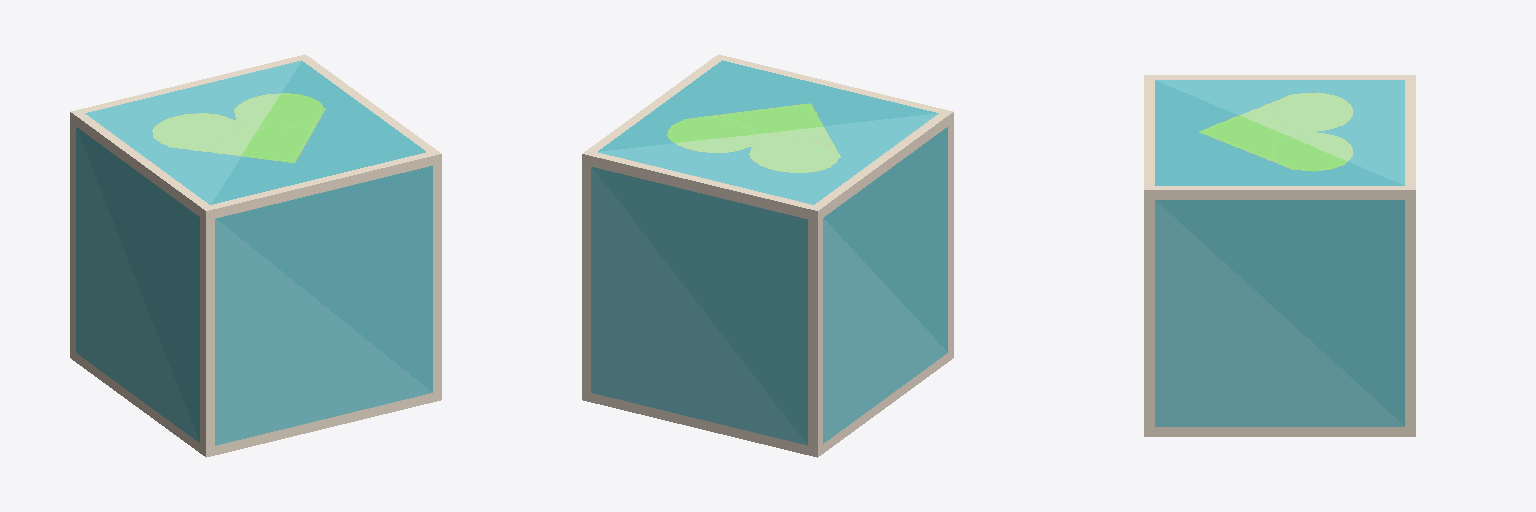
3 renders of one model, left to right at view 1: azimuth 30°, elevation 25°; view 2: azimuth 150°, elevation 25°; view 3: azimuth 270°, elevation 25°, orthographic.
Parts seen in each view (by area): view 1: Cube; view 2: Cube; view 3: Cube.
Part boxes in pixels (left/top/right/bottom): Cube: left=70, top=54, right=441, bottom=457; Cube: left=582, top=54, right=953, bottom=457; Cube: left=1144, top=75, right=1415, bottom=436.
Bounding box in the file's own units: 2 × 2 × 2.
Materials: 1 (1 with a texture image).